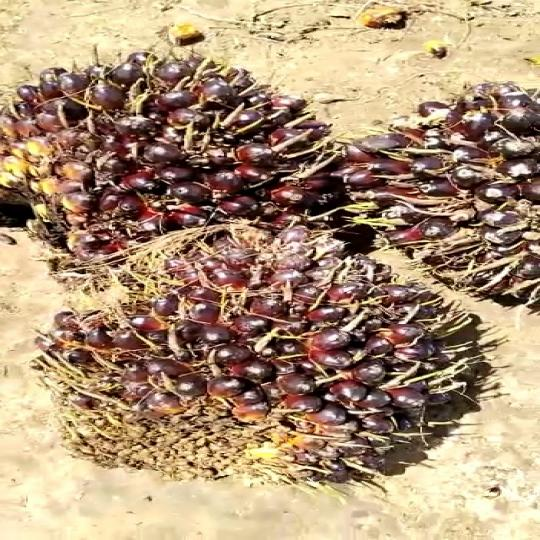mentah: (11, 226, 489, 495), (0, 18, 380, 264), (366, 73, 540, 318)
